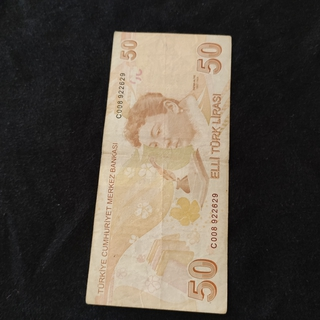50TLBack: (84, 30, 232, 313)
